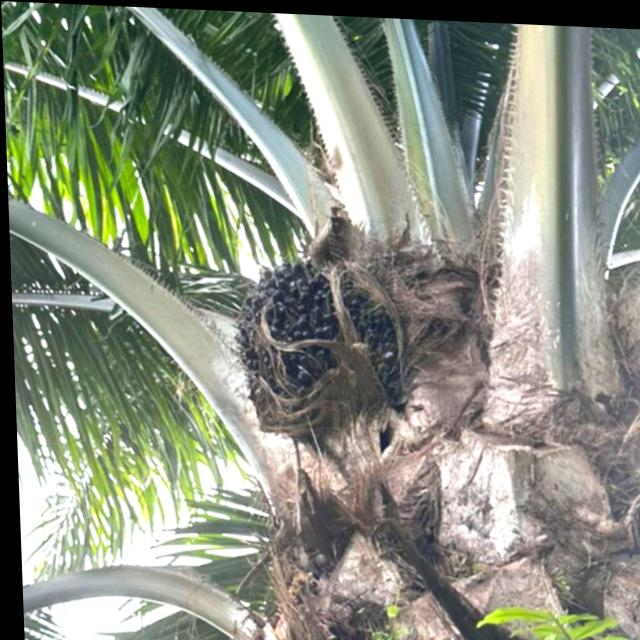unripe: (224, 237, 434, 448)
